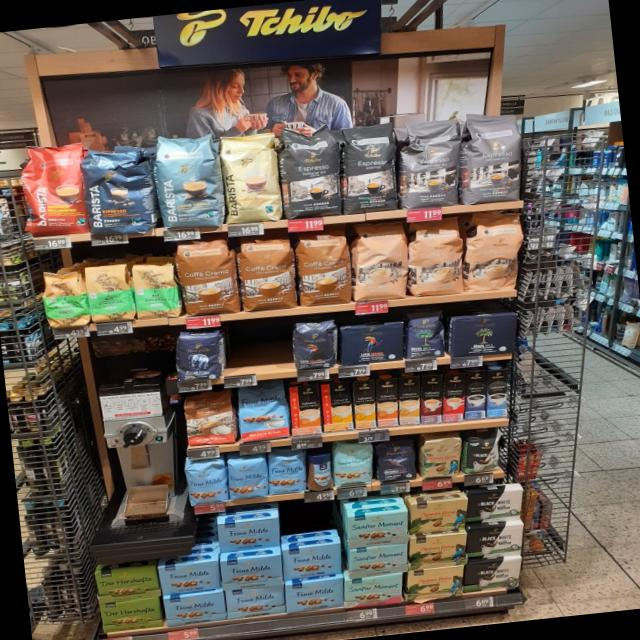AB Bohne: (172, 328, 226, 382)
Athiopien Bohne: (38, 264, 90, 330)
Athiopien Gemahlen: (83, 262, 136, 324), (130, 258, 180, 321)
BM Bohne: (402, 306, 450, 361)
BM Gemahlen: (450, 310, 520, 360)
BW Bohne: (460, 429, 506, 475)
BW Gemahlen: (467, 524, 523, 561), (463, 557, 522, 592), (466, 489, 524, 523)
Barista CB: (214, 127, 284, 225)
Barista CC: (151, 129, 226, 232)
Barista Espresso: (78, 144, 158, 241)
Barista Kolumbien: (15, 137, 88, 239)
C Fino Bohne: (372, 436, 420, 485)
CC Mild: (458, 207, 530, 294), (348, 218, 411, 302), (404, 216, 466, 298)
CC Vollmundig: (180, 388, 238, 448)
CC Vollmundig 36 Pads: (173, 236, 243, 320), (234, 232, 299, 314), (294, 229, 352, 308)
Colombia BB Bohne: (417, 433, 466, 481)
Colombia BB Gemahlen: (409, 532, 469, 571), (410, 497, 469, 535), (406, 565, 465, 602)
Empty Shelf: (222, 322, 294, 376)
Espresso Aromatisch: (458, 106, 530, 206), (394, 115, 466, 212)
Espresso Kraftig: (337, 120, 403, 214)
Espresso S Art: (276, 122, 344, 220)
FM 36 Pads: (236, 382, 290, 442)
FM Bohne: (182, 456, 230, 506), (225, 454, 269, 500), (266, 451, 309, 496)
FM Gemahlen: (219, 554, 284, 590), (216, 516, 281, 552), (156, 560, 222, 595), (163, 590, 227, 626), (282, 543, 343, 580), (224, 584, 286, 619), (284, 577, 344, 613)
FM Instant: (306, 452, 334, 492)
Herzhatfe Mundig: (98, 594, 164, 634), (92, 564, 160, 602)
LG Bohne: (289, 318, 340, 372)
LG Gemahlen: (337, 317, 408, 366)
SM Bohne: (332, 440, 376, 488)
SM Gemahlen: (348, 508, 410, 548), (350, 543, 409, 579), (344, 574, 403, 608)
Simo CCMild: (320, 381, 354, 432)
Simo CCMild bigpack: (353, 380, 376, 429)
Simo CCVollmundig: (288, 383, 322, 435)
Simo CCVollmundig bigpack: (376, 378, 399, 427)
Simo Decaff: (398, 376, 421, 425)
Simo Es Brazil: (443, 373, 464, 422)
Simo Es Caramel: (421, 374, 443, 423)
Simo Es Kraft: (465, 370, 487, 418)
Simo Es Vanilla: (487, 368, 508, 417)
